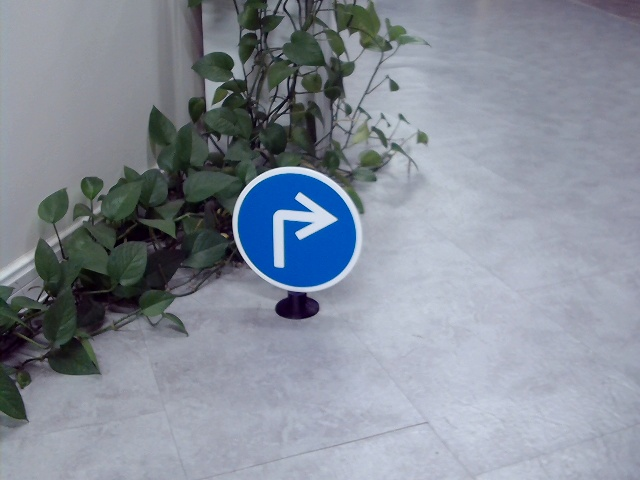turn_right: (265, 187, 336, 266)
